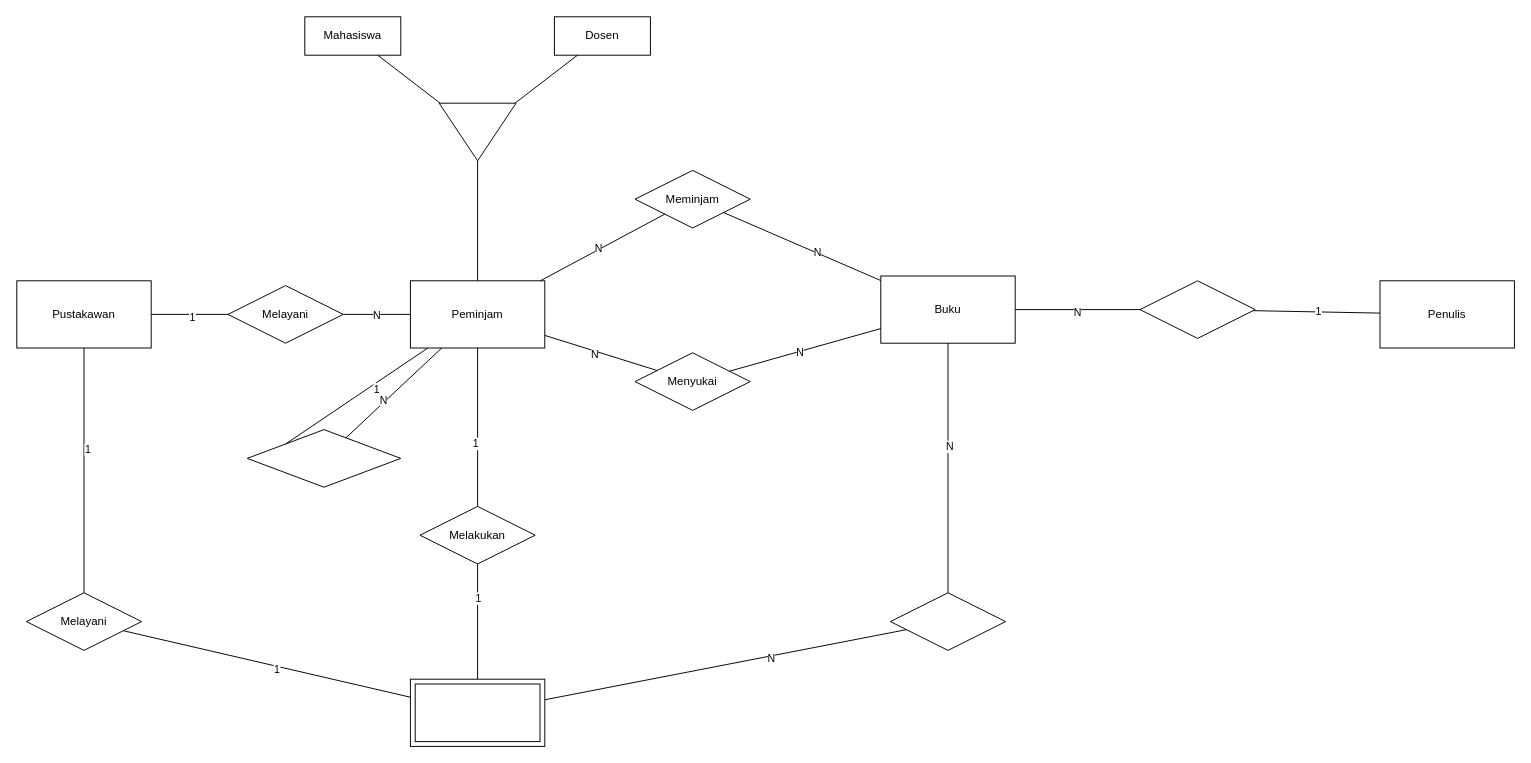
This 1531x763 diagram has some shape labels left out. The shapes that lost their labels are listed below. From the top down, each one's centre as x and y in pixels, then its label:
the point at 477,131: ISA
the point at 1197,309: Menulis
the point at 323,458: Merekomendasikan
the point at 947,621: Menginformasikan
the point at 477,712: Peminjaman
